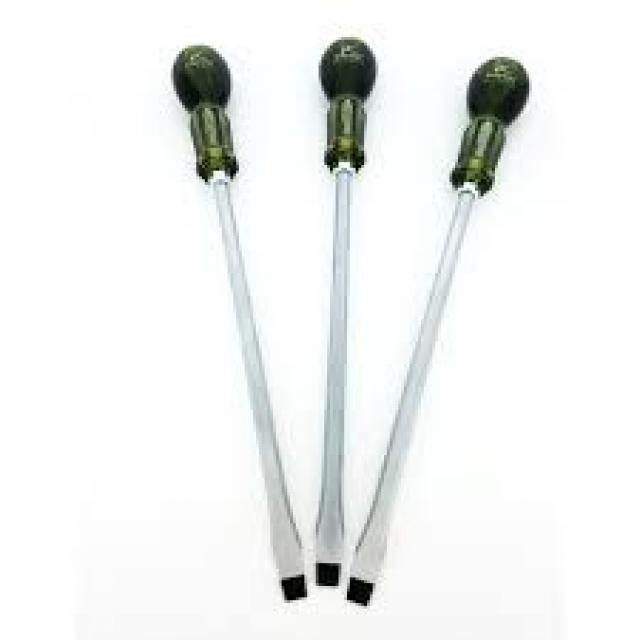screwdriver: (343, 52, 536, 614), (171, 40, 310, 606), (313, 36, 382, 590)
